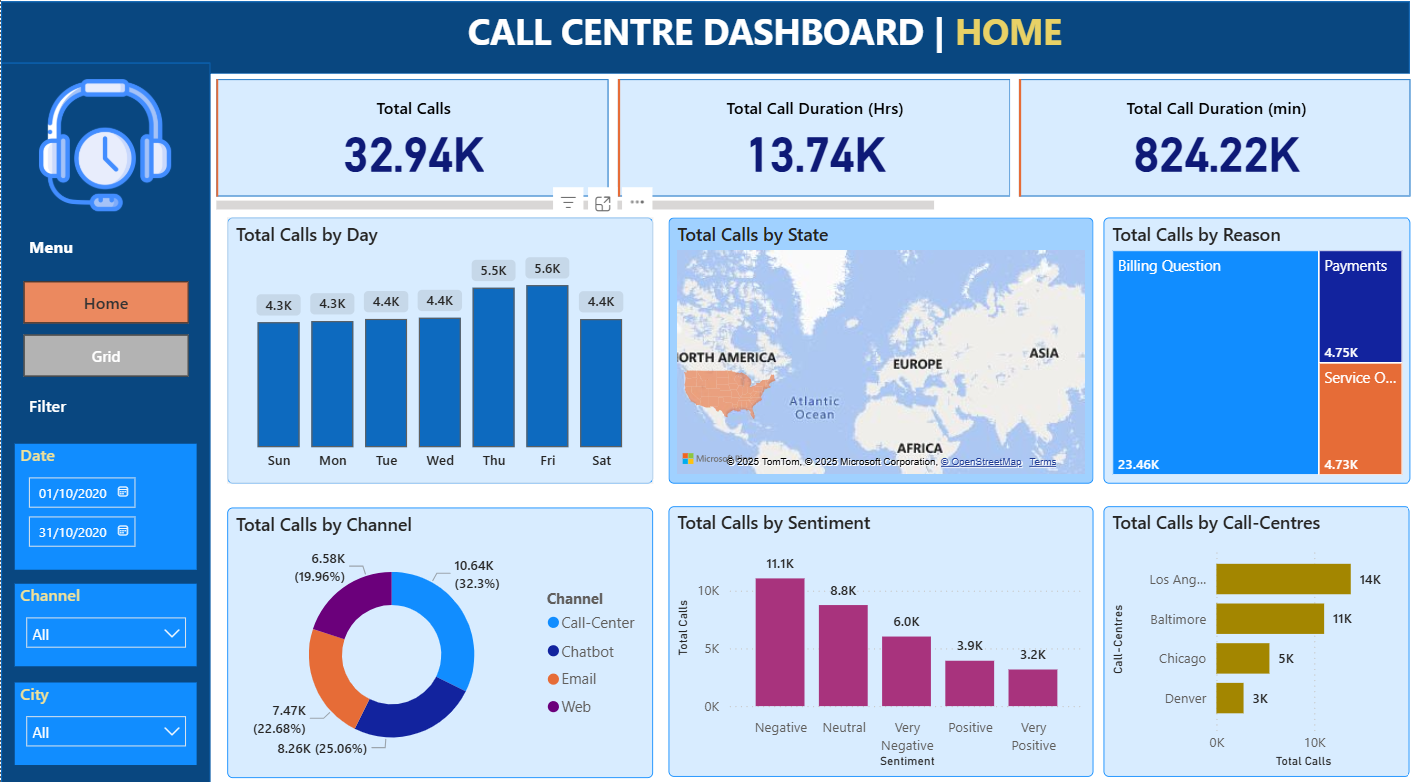

What the dashboard file says about the page in this screenshot:
{"tool":"powerbi","page":{"name":"Home","canvas":[1280,720],"ordinal":0},"visuals":[{"type":"shape","box":[0,10,1271.3,65.9],"z":0},{"type":"shape","box":[0,65.9,189.1,654.3],"z":1000},{"type":"cardVisual","fields":{"Data":["Call Center_Call Center.Total Calls","Call Center_Call Center.Total Call Duration (Hrs)","Call Center_Call Center.Total Call Duration (min)","Call Center_Call Center.Avg Call Duration(Min)","Call Center_Call Center.Response Time %"]},"box":[189.1,75.9,1091,129.4],"z":2000},{"type":"textbox","box":[415.5,10,561,57.2],"z":3000},{"type":"columnChart","fields":{"Category":["Date Table.Day"],"Y":["Call Center_Call Center.Total Calls"]},"box":[204,205.3,384.4,240.1],"z":4000},{"type":"filledMap","fields":{"Category":["Call Center_Call Center.State"],"Y":["Call Center_Call Center.Total Calls"]},"box":[602.1,205.3,383.1,240.1],"z":5000},{"type":"treemap","fields":{"Group":["Call Center_Call Center.Reason"],"Values":["Call Center_Call Center.Total Calls"]},"box":[993.9,205.3,277.4,240.1],"z":5001},{"type":"donutChart","fields":{"Category":["Call Center_Call Center.Channel"],"Y":["Call Center_Call Center.Total Calls"]},"box":[204,466.5,384.4,243.8],"z":5002},{"type":"columnChart","fields":{"Category":["Call Center_Call Center.Sentiment"],"Y":["Call Center_Call Center.Total Calls"]},"box":[602,466,383,244],"z":5003},{"type":"clusteredBarChart","fields":{"Category":["Call Center_Call Center.Call-Centres City"],"Y":["Call Center_Call Center.Total Calls"]},"box":[994,466,277,244],"z":5004},{"type":"slicer","title":"Date","fields":{"Values":["Date Table.Date"]},"box":[12.4,409.3,164.2,113.2],"z":5005},{"type":"slicer","title":"Channel","fields":{"Values":["Call Center_Call Center.Channel"]},"box":[12.4,534.9,164.2,74.6],"z":5006},{"type":"slicer","title":"City","fields":{"Values":["Call Center_Call Center.City"]},"box":[12.4,624.5,164.2,74.6],"z":5007},{"type":"image","box":[27.4,75.9,134.3,129.4],"z":5008},{"type":"pageNavigator","box":[19.9,262.5,149.3,87.1],"z":5009},{"type":"textbox","box":[19.9,216.4,74.6,33.6],"z":5010},{"type":"textbox","box":[19.9,359.5,84.6,33.6],"z":5011}]}

Visuals, with their boxes in screenshot pixels (x1, y1, x2, y2), scaled from the page's 1280x720 canvas onto the 1412x782 screenshot:
shape: rect(0, 11, 1402, 82)
shape: rect(0, 72, 209, 781)
cardVisual - Call Center_Call Center.Total Calls x Call Center_Call Center.Total Call Duration (Hrs): rect(209, 82, 1411, 223)
textbox: rect(458, 11, 1077, 73)
columnChart - Date Table.Day x Call Center_Call Center.Total Calls: rect(225, 223, 649, 484)
filledMap - Call Center_Call Center.State x Call Center_Call Center.Total Calls: rect(664, 223, 1087, 484)
treemap - Call Center_Call Center.Reason x Call Center_Call Center.Total Calls: rect(1096, 223, 1402, 484)
donutChart - Call Center_Call Center.Channel x Call Center_Call Center.Total Calls: rect(225, 507, 649, 771)
columnChart - Call Center_Call Center.Sentiment x Call Center_Call Center.Total Calls: rect(664, 506, 1087, 771)
clusteredBarChart - Call Center_Call Center.Call-Centres City x Call Center_Call Center.Total Calls: rect(1097, 506, 1402, 771)
"Date" slicer: rect(14, 445, 195, 567)
"Channel" slicer: rect(14, 581, 195, 662)
"City" slicer: rect(14, 678, 195, 759)
image: rect(30, 82, 178, 223)
pageNavigator: rect(22, 285, 187, 380)
textbox: rect(22, 235, 104, 272)
textbox: rect(22, 390, 115, 427)
